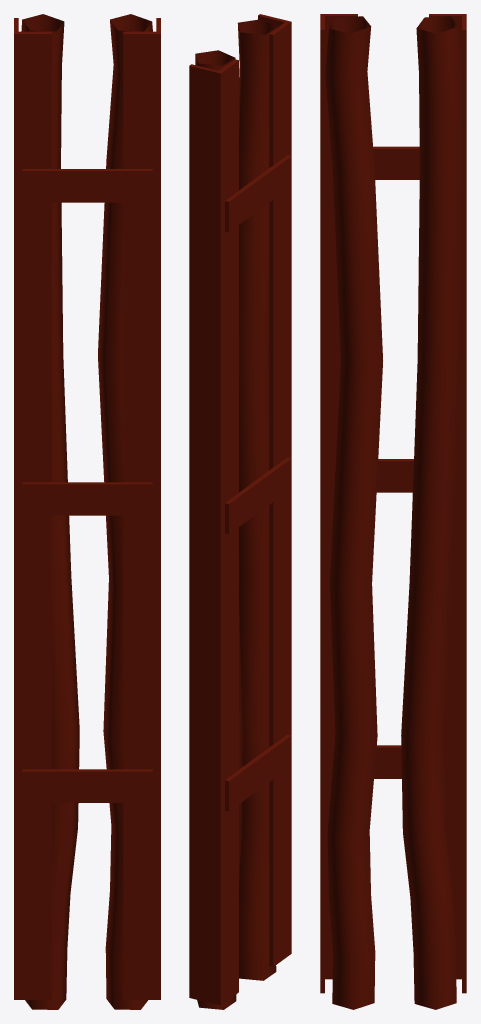
File: wire2.FBX
3 views of the same model, side by side, from view 1: azimuth 90°, elevation 25°; view 2: azimuth 150°, elevation 25°; view 3: azimuth 270°, elevation 25° (orthographic). The views are drawn at different scales.
Parts seen in each view (by area): view 1: wire2; view 2: wire2; view 3: wire2.
Boxes of the visible parts, bbox=[...] form: wire2: bbox=[14, 14, 160, 1009]; wire2: bbox=[189, 14, 291, 1009]; wire2: bbox=[320, 14, 466, 1009].
Bounding box in the file's own units: 5.9 × 122 × 16.61.
